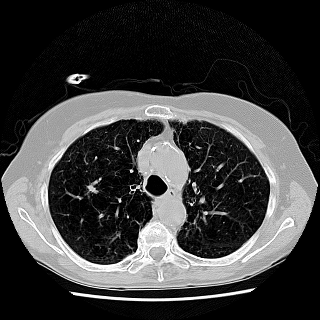nodule: (87, 185, 95, 193)
